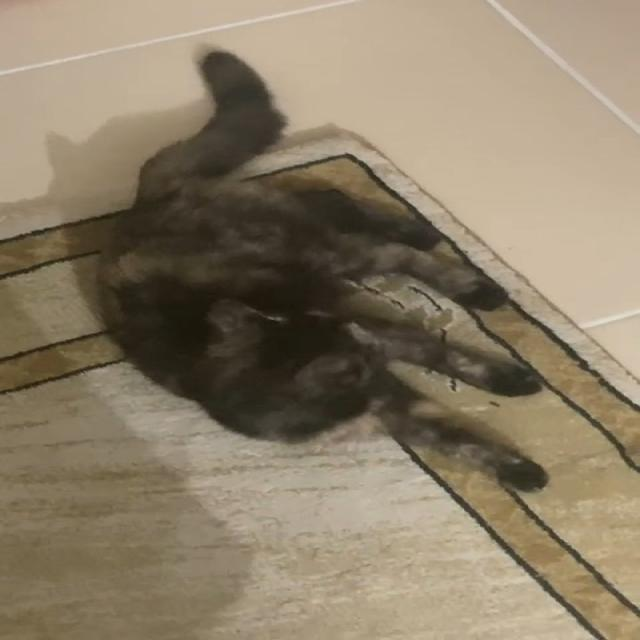authorized: (93, 44, 551, 492)
